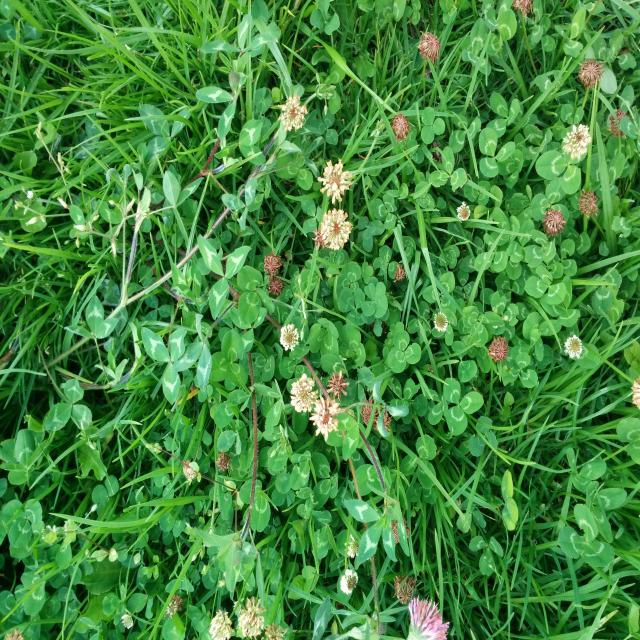Four Leaf Clover: (361, 283, 388, 318)
